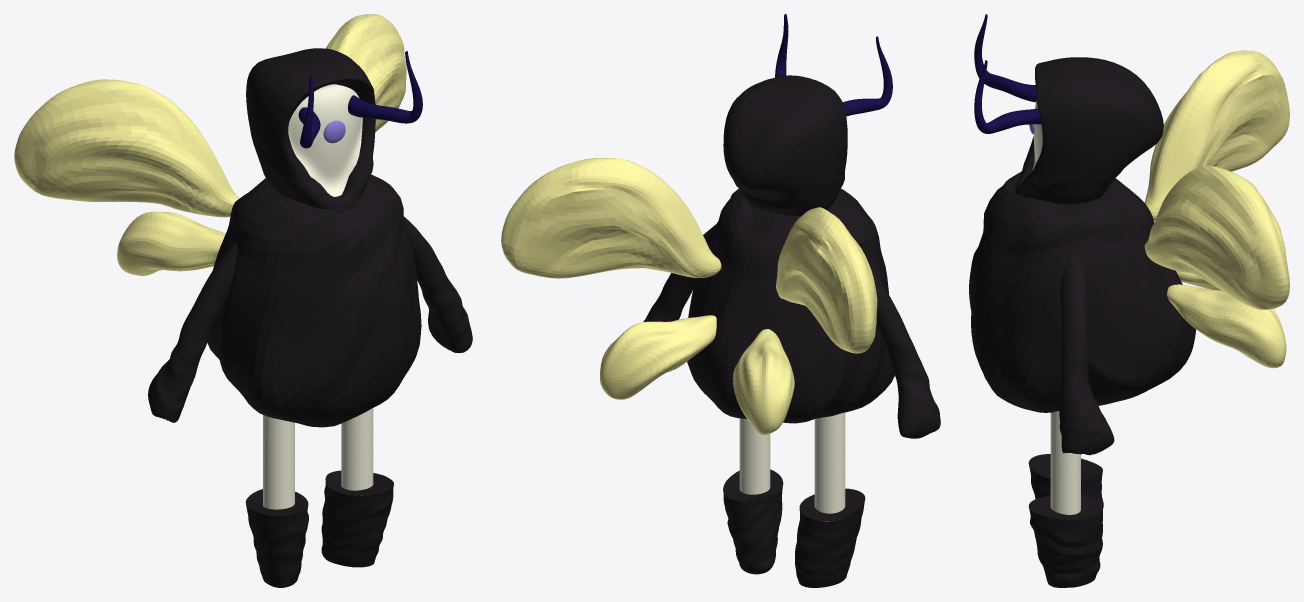
File: Angie.glb
3 views of the same model, side by side, from view 1: azimuth 30°, elevation 25°; view 2: azimuth 150°, elevation 25°; view 3: azimuth 270°, elevation 25° (orthographic). The views are drawn at different scales.
Visible parts, largest first — view 1: Retopo_Quad Sphere.001, Retopo_UV Sphere.003, Retopo_Quad Sphere ext, Retopo_Cylinder.001, Retopo_UV Sphere.002, Retopo_Tube.002, Retopo_Quad Sphere 1, Retopo_UV Sphere.001, Retopo_Cylinder, Retopo_Tube.001, Retopo_Cylinder.002, Retopo_Cylinder.003 (+2 smaller); view 2: Retopo_Quad Sphere.001, Retopo_UV Sphere.001, Retopo_Quad Sphere ext, Retopo_UV Sphere.003, Retopo_UV Sphere, Retopo_Cylinder, Retopo_UV Sphere.002, Retopo_Tube.002, Retopo_Cylinder.001, Retopo_Cylinder.002, Retopo_Cylinder.003, Retopo_Tube.001 (+1 smaller); view 3: Retopo_Quad Sphere.001, Retopo_Quad Sphere ext, Retopo_UV Sphere.001, Retopo_UV Sphere.003, Retopo_Tube.001, Retopo_UV Sphere, Retopo_Cylinder.001, Retopo_Cylinder.003, Retopo_Cylinder, Retopo_Tube, Retopo_Tube.003.
Part boxes in pixels (bbox=[...]): Retopo_Quad Sphere.001: bbox=[207, 174, 421, 427]; Retopo_UV Sphere.003: bbox=[14, 79, 239, 217]; Retopo_Quad Sphere ext: bbox=[246, 48, 375, 209]; Retopo_Cylinder.001: bbox=[321, 470, 393, 567]; Retopo_UV Sphere.002: bbox=[117, 211, 225, 275]; Retopo_Tube.002: bbox=[148, 241, 237, 422]; Retopo_Quad Sphere 1: bbox=[288, 84, 362, 196]; Retopo_UV Sphere.001: bbox=[326, 14, 406, 131]; Retopo_Cylinder: bbox=[245, 489, 308, 587]; Retopo_Tube.001: bbox=[403, 216, 472, 352]; Retopo_Cylinder.002: bbox=[263, 415, 294, 509]; Retopo_Cylinder.003: bbox=[341, 408, 373, 495]; Retopo_Quad Sphere.001: bbox=[687, 188, 894, 423]; Retopo_UV Sphere.001: bbox=[501, 158, 721, 278]; Retopo_Quad Sphere ext: bbox=[723, 75, 847, 216]; Retopo_UV Sphere.003: bbox=[776, 207, 877, 353]; Retopo_UV Sphere: bbox=[599, 315, 716, 399]; Retopo_Cylinder: bbox=[795, 488, 865, 587]; Retopo_UV Sphere.002: bbox=[732, 329, 794, 434]; Retopo_Tube.002: bbox=[870, 268, 940, 438]; Retopo_Cylinder.001: bbox=[723, 469, 783, 574]; Retopo_Cylinder.002: bbox=[814, 412, 845, 521]; Retopo_Cylinder.003: bbox=[739, 418, 770, 501]; Retopo_Tube.001: bbox=[643, 224, 715, 321]; Retopo_Quad Sphere.001: bbox=[969, 171, 1196, 412]; Retopo_Quad Sphere ext: bbox=[1015, 57, 1163, 204]; Retopo_UV Sphere.001: bbox=[1144, 165, 1289, 309]; Retopo_UV Sphere.003: bbox=[1145, 50, 1289, 220]; Retopo_Tube.001: bbox=[1059, 255, 1114, 455]; Retopo_UV Sphere: bbox=[1167, 284, 1286, 368]; Retopo_Cylinder.001: bbox=[1028, 495, 1102, 587]; Retopo_Cylinder.003: bbox=[1050, 411, 1080, 514]; Retopo_Cylinder: bbox=[1028, 454, 1103, 508]; Retopo_Tube: bbox=[974, 60, 1041, 133]; Retopo_Tube.003: bbox=[974, 14, 1036, 102].
Bounding box in the file's own units: 3.34 × 4.45 × 2.46.
